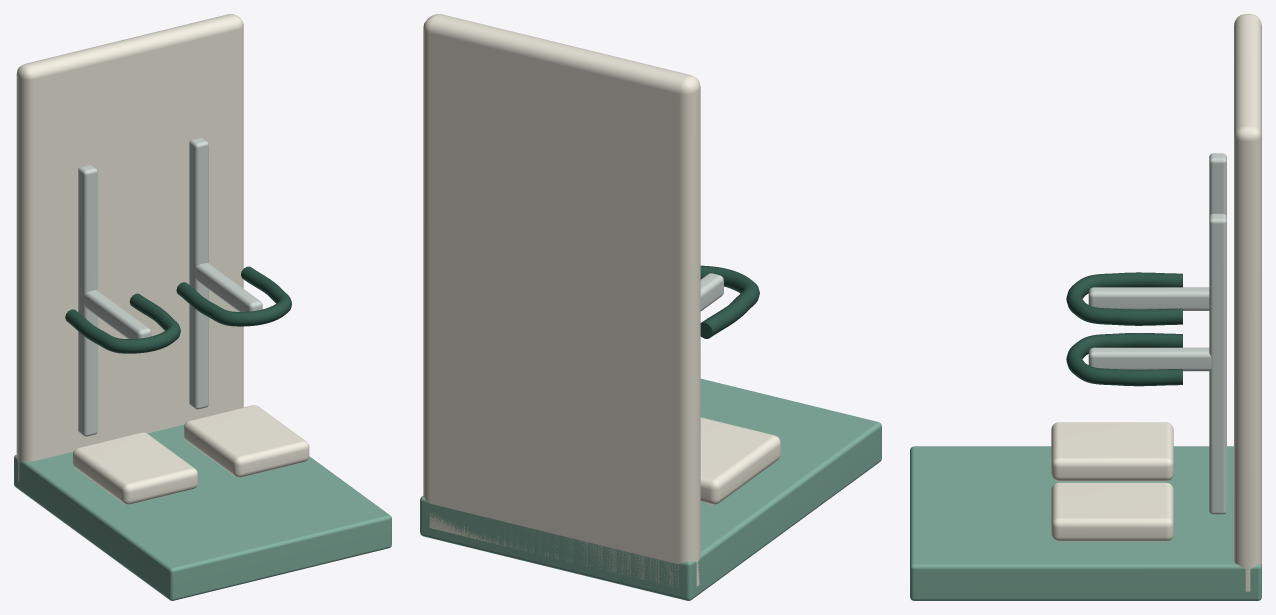
Rendered from diagnostic-holder.glb.
3 views of the same model, side by side, from view 1: azimuth 30°, elevation 25°; view 2: azimuth 150°, elevation 25°; view 3: azimuth 270°, elevation 25° (orthographic). The views are drawn at different scales.
Visible parts, largest first — view 1: diagnostic-holder | material-batched geometry; view 2: diagnostic-holder | material-batched geometry; view 3: diagnostic-holder | material-batched geometry.
Boxes of the visible parts, x1,y1,x2,y2 form: diagnostic-holder | material-batched geometry: [14, 14, 391, 600]; diagnostic-holder | material-batched geometry: [420, 14, 881, 600]; diagnostic-holder | material-batched geometry: [910, 14, 1261, 600].
Size of the model in its own units: 0.56 by 1.02 by 0.69.
